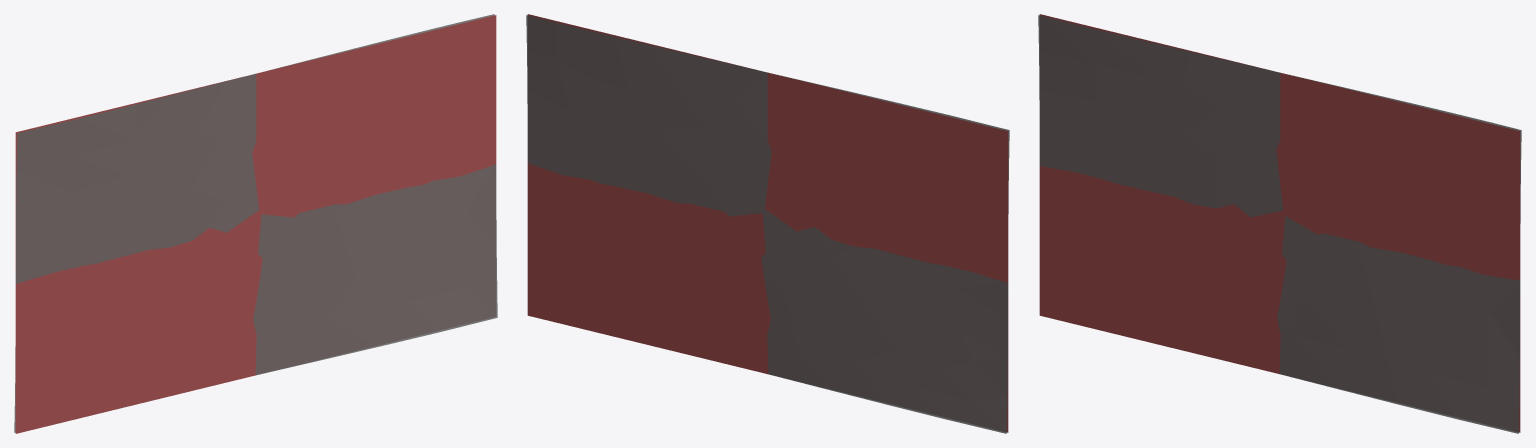
Rendered from warping-rectangle-60-100-96.glb.
The picture shows the model from 3 angles, left to right: view 1: azimuth 30°, elevation 25°; view 2: azimuth 150°, elevation 25°; view 3: azimuth 330°, elevation 25°; orthographic projection.
Parts seen in each view (by area): view 1: undeformed cross-section, cross-section with warping; view 2: undeformed cross-section, cross-section with warping; view 3: undeformed cross-section, cross-section with warping.
Part boxes in pixels (<box>): undeformed cross-section: <box>15,15,496,433</box>; cross-section with warping: <box>14,14,497,432</box>; undeformed cross-section: <box>527,14,1008,432</box>; cross-section with warping: <box>526,15,1009,433</box>; undeformed cross-section: <box>1039,14,1520,432</box>; cross-section with warping: <box>1038,15,1521,433</box>.
Bounding box in the file's own units: 0.1 × 0.06 × 0.0013.
